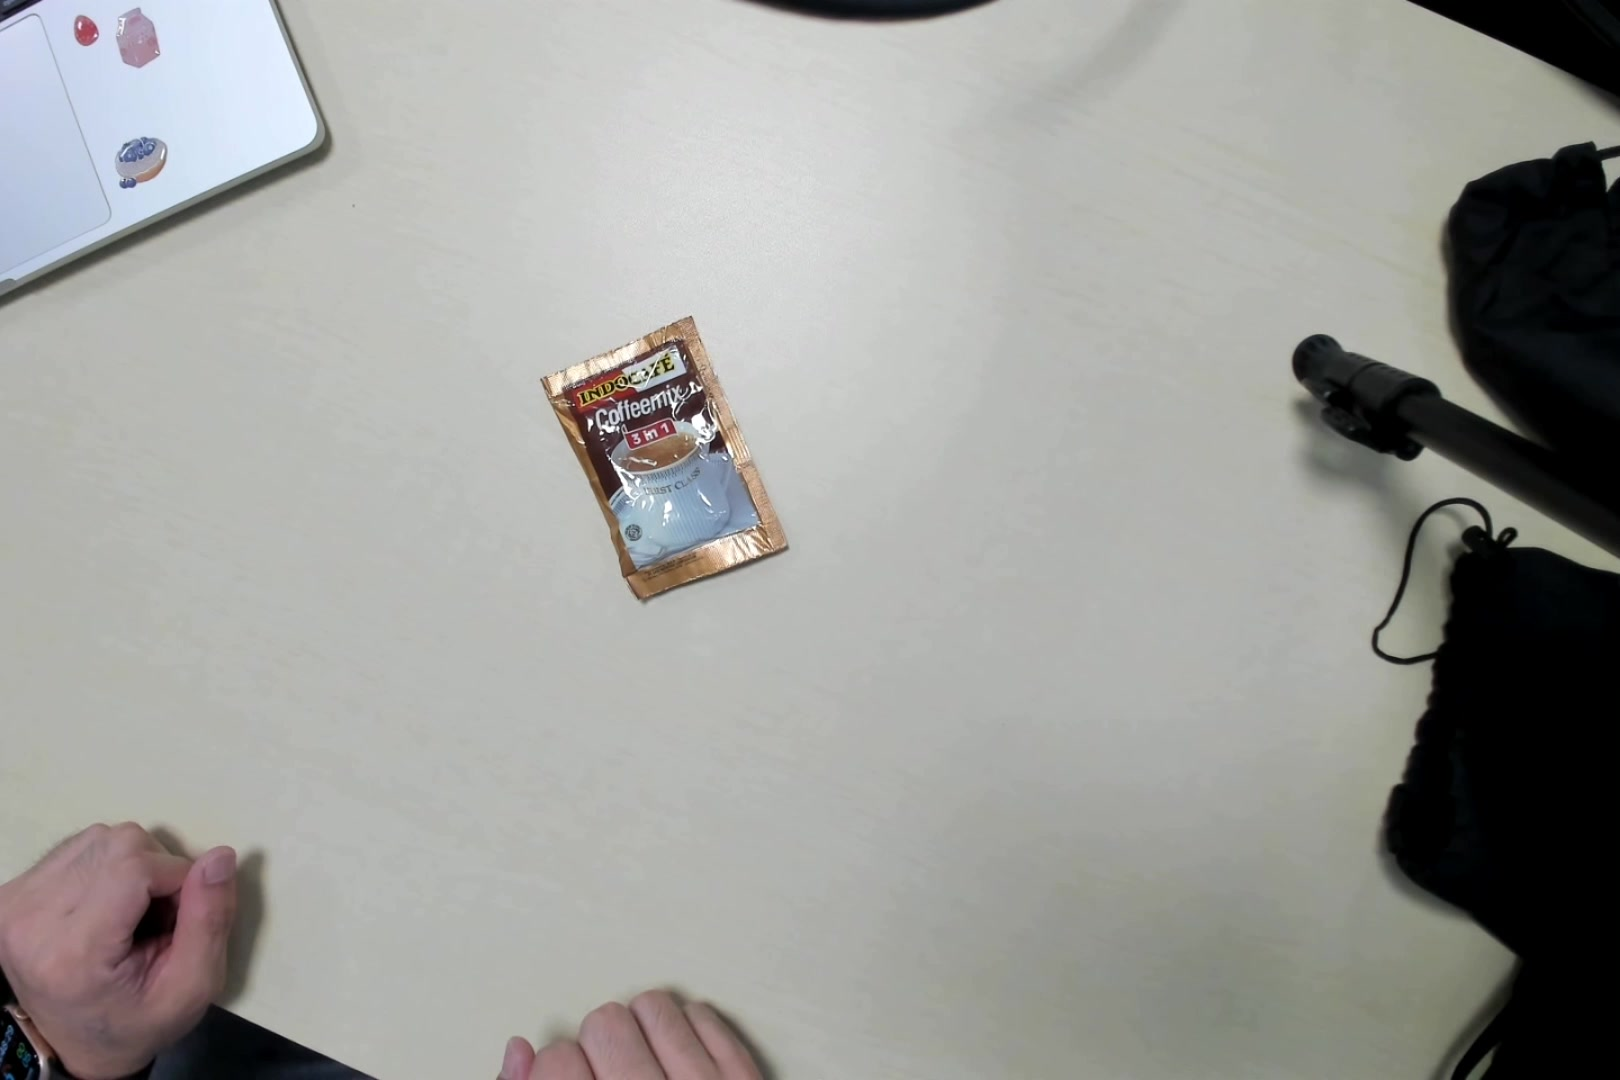Coffee(Powder)_0-99g_NonHalal_NonHealthy: (551, 317, 791, 595)
